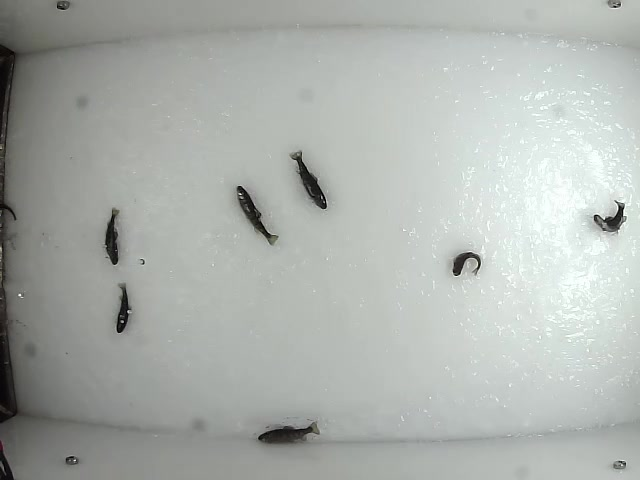fish: (232, 184, 279, 246), (287, 149, 329, 211), (255, 419, 321, 444), (591, 199, 629, 234), (102, 205, 122, 267), (112, 281, 134, 337), (449, 249, 483, 279)
